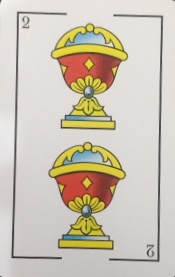2c: (14, 9, 167, 32)
